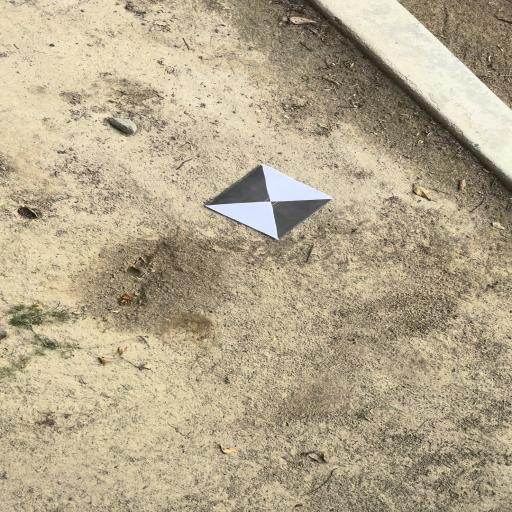target: (209, 164, 332, 239)
